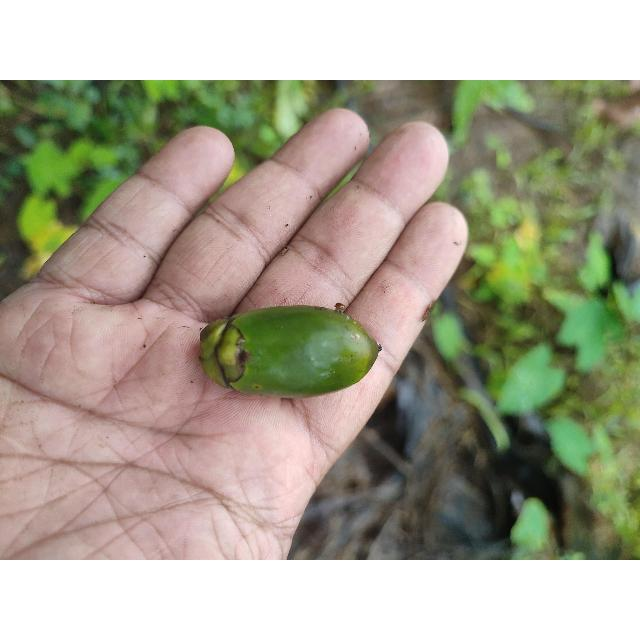good: (198, 307, 381, 399)
